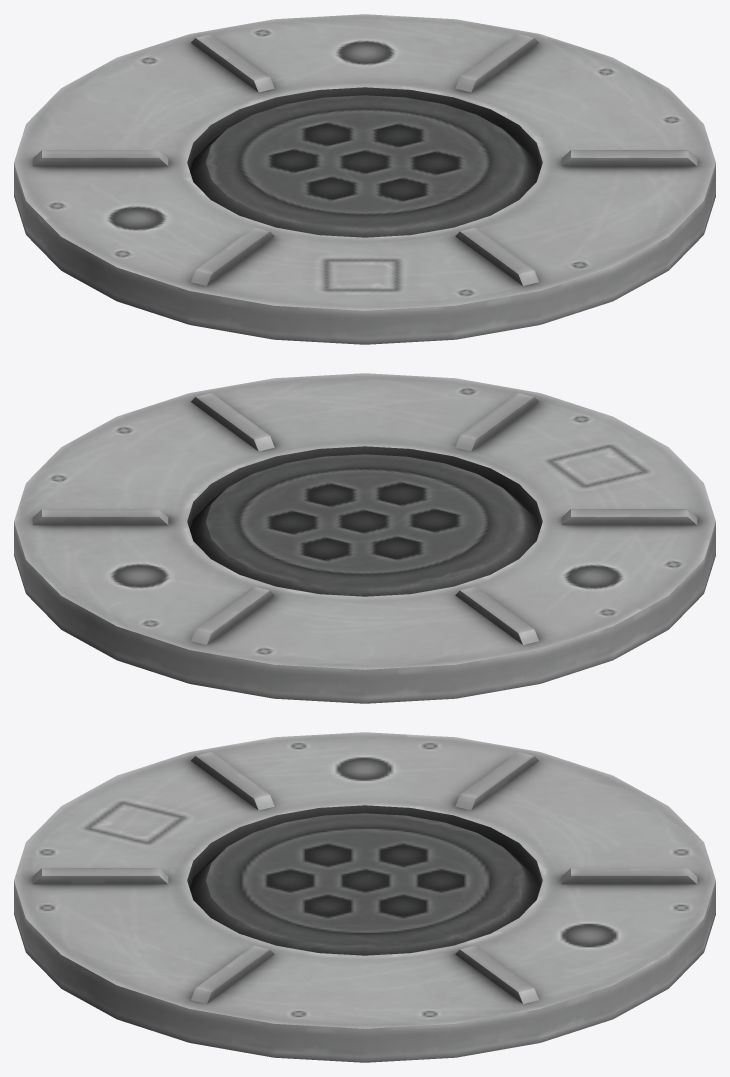
The model's file is petra_docking_port_s0p5_1_female.obj.
3 views of the same model, one above another, from view 1: azimuth 30°, elevation 25°; view 2: azimuth 150°, elevation 25°; view 3: azimuth 270°, elevation 25° (orthographic).
Visible parts, largest first — view 1: mesh; view 2: mesh; view 3: mesh.
Boxes of the visible parts, x1,y1,x2,y2 form: mesh: (14, 14, 715, 344); mesh: (14, 373, 715, 703); mesh: (14, 732, 715, 1062).
Bounding box in the file's own units: 0.9375 × 0.0625 × 0.9375.
Materials: 1 (1 with a texture image).
